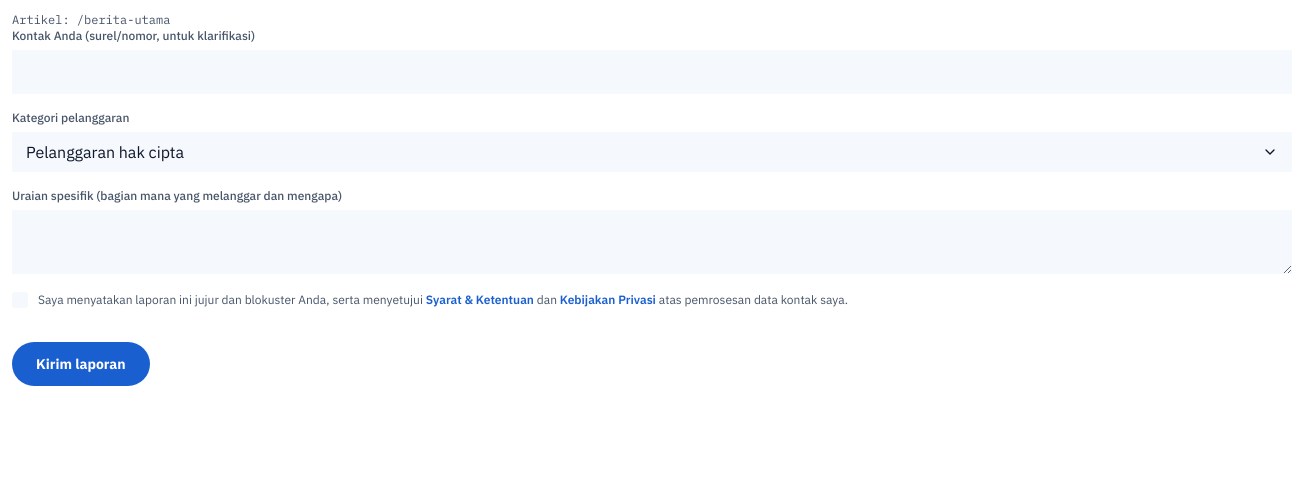
Test: RedEditorialReportForm validation › menolak submit dengan kontak dan uraian pendek
The image size is (1304, 503).
Click the button "Kirim laporan". click: (81, 364)
box: [12,342,150,386]
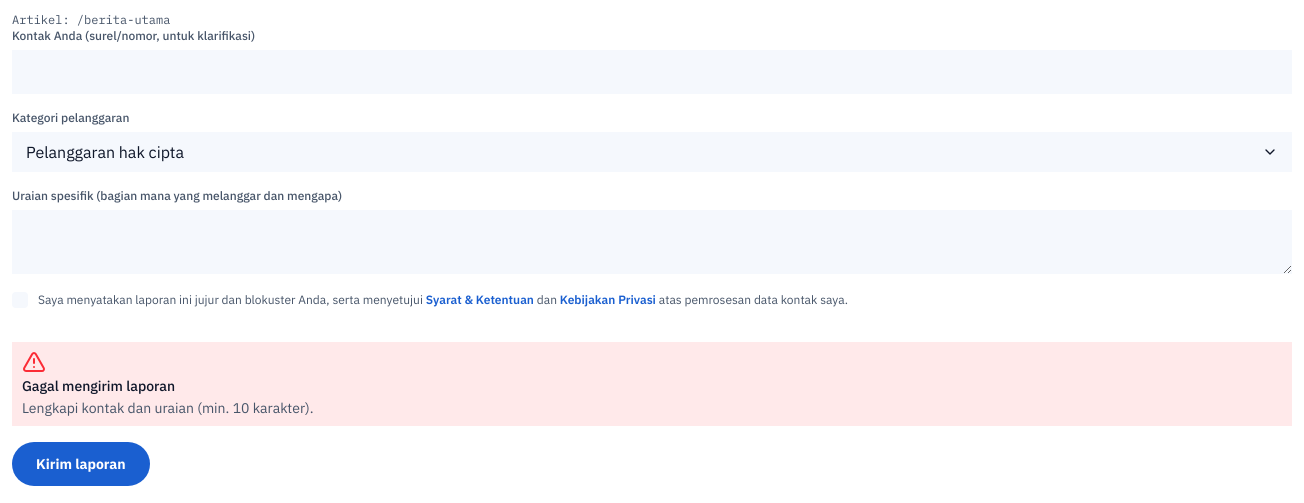
Now the text "Lengkapi kontak dan uraian (min. 10 karakter)." is shown, box [22,398,314,416]
